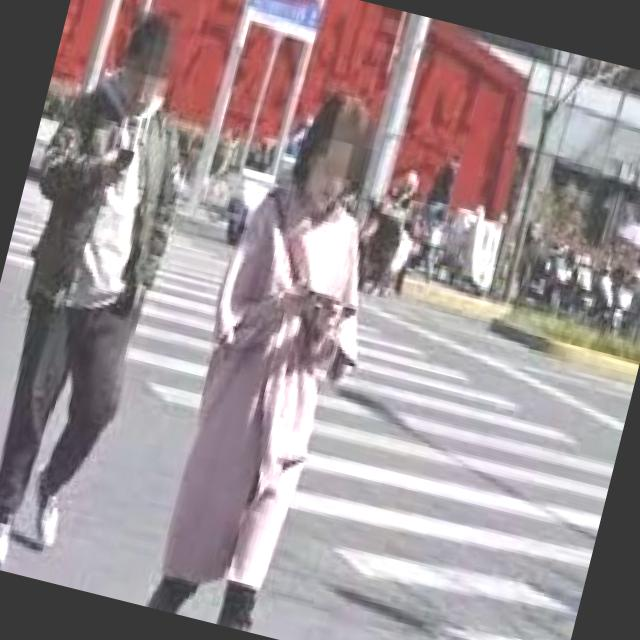Person: (144, 82, 400, 636), (0, 0, 214, 587)
